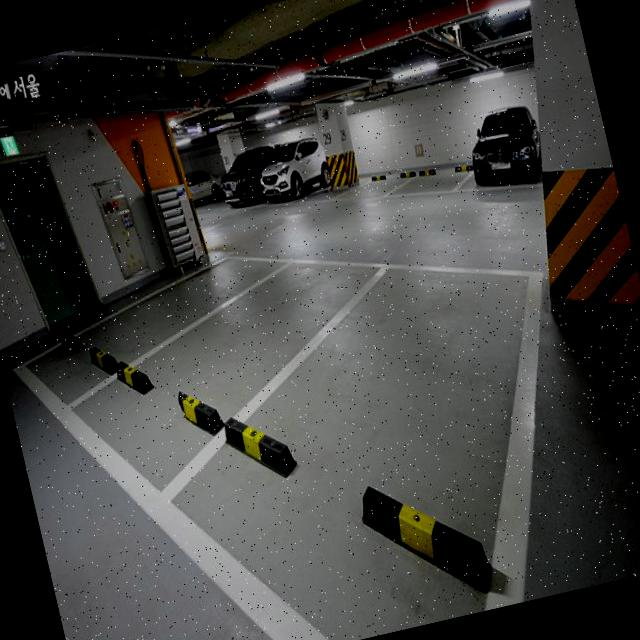car: (462, 100, 551, 194), (253, 121, 334, 211), (208, 148, 270, 212)
free: (209, 325, 621, 640), (81, 317, 290, 466), (49, 274, 242, 372), (399, 160, 470, 202), (338, 166, 406, 205)
